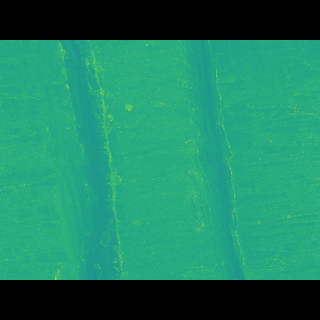Loch: (175, 69, 319, 250), (0, 69, 129, 250)
